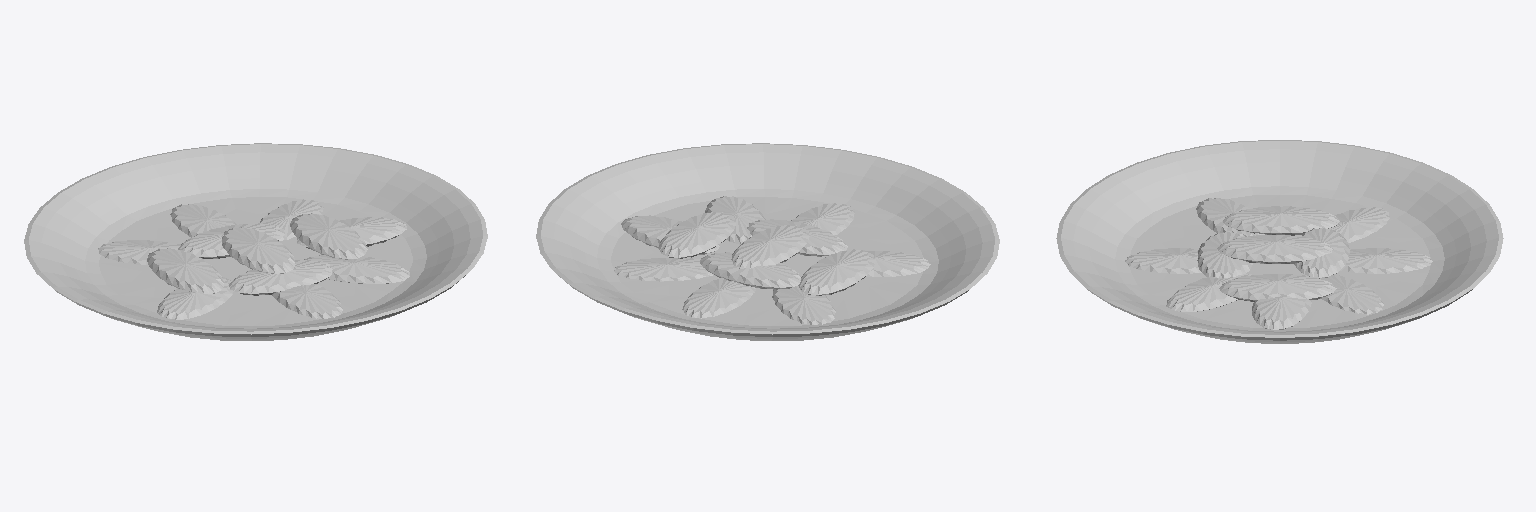
File: biji ketapang.obj
The picture shows the model from 3 angles: view 1: azimuth 30°, elevation 25°; view 2: azimuth 150°, elevation 25°; view 3: azimuth 270°, elevation 25°; orthographic projection.
Parts seen in each view (by area): view 1: Cylinder, Cylinder.009, Cylinder.008, Cylinder.012, Cylinder.011, Cylinder.004, Cylinder.001, Cylinder.006, Cylinder.010, Cylinder.002, Cylinder.003, Cylinder.007 (+1 smaller); view 2: Cylinder, Cylinder.009, Cylinder.008, Cylinder.012, Cylinder.010, Cylinder.002, Cylinder.005, Cylinder.003, Cylinder.011, Cylinder.004, Cylinder.006, Cylinder.007 (+1 smaller); view 3: Cylinder, Cylinder.012, Cylinder.008, Cylinder.009, Cylinder.002, Cylinder.004, Cylinder.001, Cylinder.007, Cylinder.010, Cylinder.005, Cylinder.011, Cylinder.003 (+1 smaller).
Boxes of the visible parts, box(x1,y1,x2,y2) form: Cylinder: box(24, 143, 487, 340); Cylinder.009: box(290, 213, 367, 259); Cylinder.008: box(147, 248, 223, 293); Cylinder.012: box(222, 227, 295, 273); Cylinder.011: box(229, 260, 332, 295); Cylinder.004: box(304, 255, 409, 283); Cylinder.001: box(272, 284, 342, 318); Cylinder.006: box(157, 277, 233, 319); Cylinder.010: box(178, 223, 284, 258); Cylinder.002: box(170, 204, 236, 237); Cylinder.003: box(98, 240, 180, 264); Cylinder.007: box(297, 217, 406, 248); Cylinder: box(536, 143, 999, 340); Cylinder.009: box(659, 212, 735, 258); Cylinder.008: box(798, 249, 875, 295); Cylinder.012: box(731, 225, 809, 268); Cylinder.010: box(700, 252, 800, 289); Cylinder.002: box(682, 278, 755, 318); Cylinder.005: box(614, 258, 712, 281); Cylinder.003: box(772, 286, 835, 324); Cylinder.011: box(747, 219, 847, 256); Cylinder.004: box(705, 196, 765, 244); Cylinder.006: box(825, 251, 930, 276); Cylinder.007: box(621, 215, 719, 254); Cylinder: box(1056, 140, 1503, 343); Cylinder.012: box(1217, 235, 1333, 263); Cylinder.008: box(1223, 206, 1339, 235); Cylinder.009: box(1219, 274, 1336, 301); Cylinder.002: box(1340, 248, 1432, 273); Cylinder.004: box(1166, 274, 1251, 311); Cylinder.001: box(1125, 248, 1201, 273); Cylinder.007: box(1252, 296, 1311, 329); Cylinder.010: box(1294, 227, 1349, 278); Cylinder.005: box(1320, 275, 1383, 314); Cylinder.011: box(1197, 231, 1252, 277); Cylinder.003: box(1329, 207, 1389, 242).
Size of the model in its own units: 2.31 by 0.1971 by 2.2.